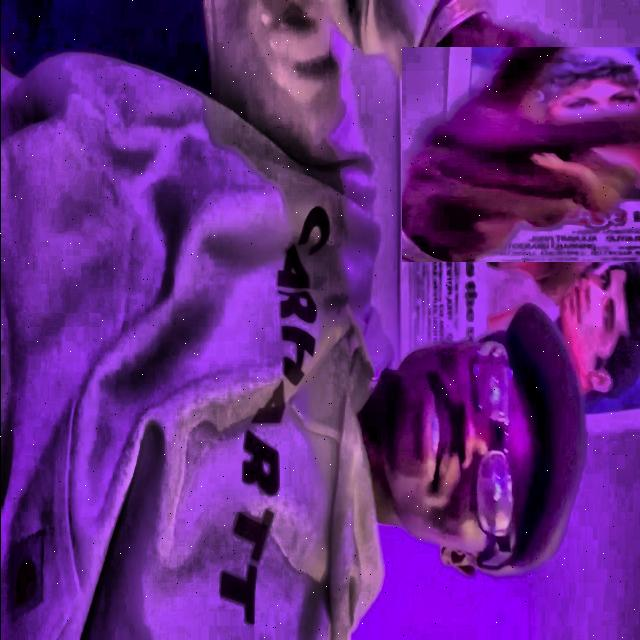not-gloved: (413, 35, 640, 274)
